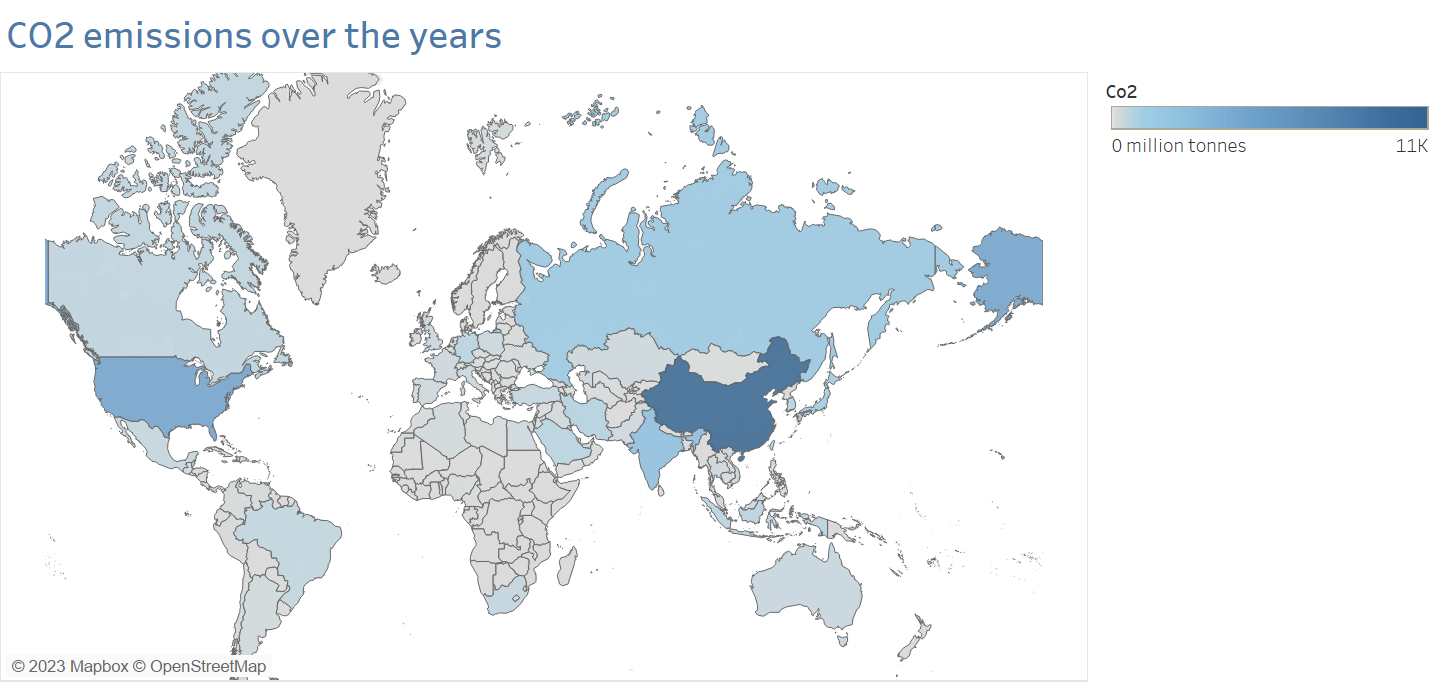

The page's visual inventory and layout, read from the dashboard file:
{"tool":"tableau","page":{"name":"Story 3","canvas":[1000,800],"ordinal":0},"visuals":[{"type":"worksheet","title":"Story 3 - 1","mark":"Multipolygon","box":[8,8,865,392]},{"type":"filter","title":"Story 3 - 1","param":"[federated.0wkd42u16rn0i91apuaoc0ubzyxs].[yr:year:ok]","box":[873,8,119,52]},{"type":"legend","title":"Story 3 - 1","param":"[federated.0wkd42u16rn0i91apuaoc0ubzyxs].[avg:co2:qk]","box":[873,60,119,65]},{"type":"worksheet","title":"Story 3 - 2","mark":"Circle","box":[8,400,432.5,392]},{"type":"worksheet","title":"Story 3 - 3","mark":"Bar","rows":["sector_name"],"cols":["co2_by_sector"],"box":[440.5,400,432.5,392]}]}

Visuals, with their boxes on the page's 1000x800 design canvas (x1, y1, x2, y2). These are canvas units, not pixel positions in the 1436x683 screenshot, which may show the page scaled, cropped or inside an application window:
"Story 3 - 1" worksheet (Multipolygon marks): x1=8 y1=8 x2=873 y2=400
"Story 3 - 1" filter: x1=873 y1=8 x2=992 y2=60
"Story 3 - 1" legend: x1=873 y1=60 x2=992 y2=125
"Story 3 - 2" worksheet (Circle marks): x1=8 y1=400 x2=440 y2=792
"Story 3 - 3" worksheet (Bar marks): x1=440 y1=400 x2=873 y2=792
